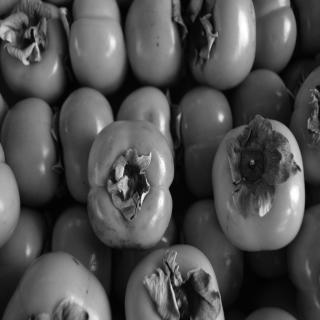tomato: (210, 112, 305, 252), (85, 104, 177, 246), (51, 86, 118, 204), (122, 243, 225, 319), (2, 252, 113, 319), (0, 0, 69, 103), (180, 201, 242, 305), (175, 87, 233, 198), (188, 0, 257, 92), (2, 96, 58, 206), (70, 0, 128, 91), (124, 0, 186, 85), (117, 86, 177, 160), (54, 209, 109, 287), (290, 65, 320, 189), (234, 67, 293, 128), (0, 211, 42, 296), (290, 205, 320, 319), (250, 0, 296, 74), (0, 160, 21, 250)
